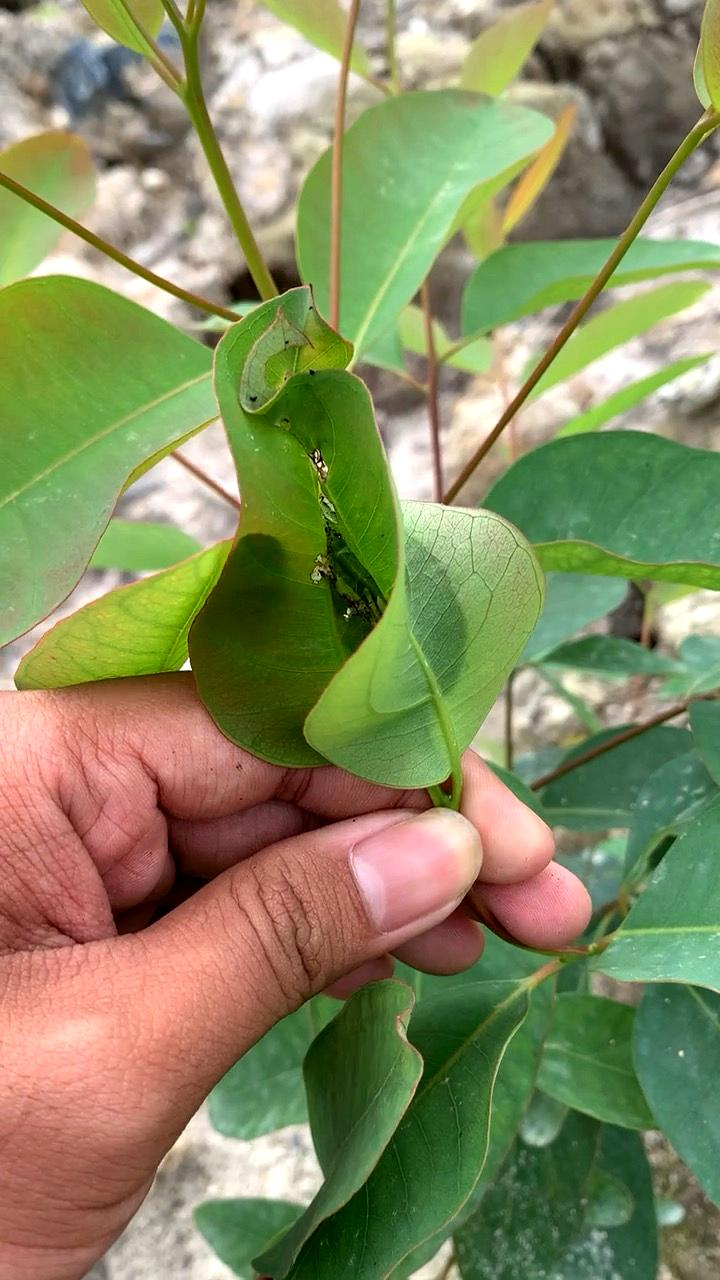Leaf Roller - Leaf: (181, 263, 543, 862)
